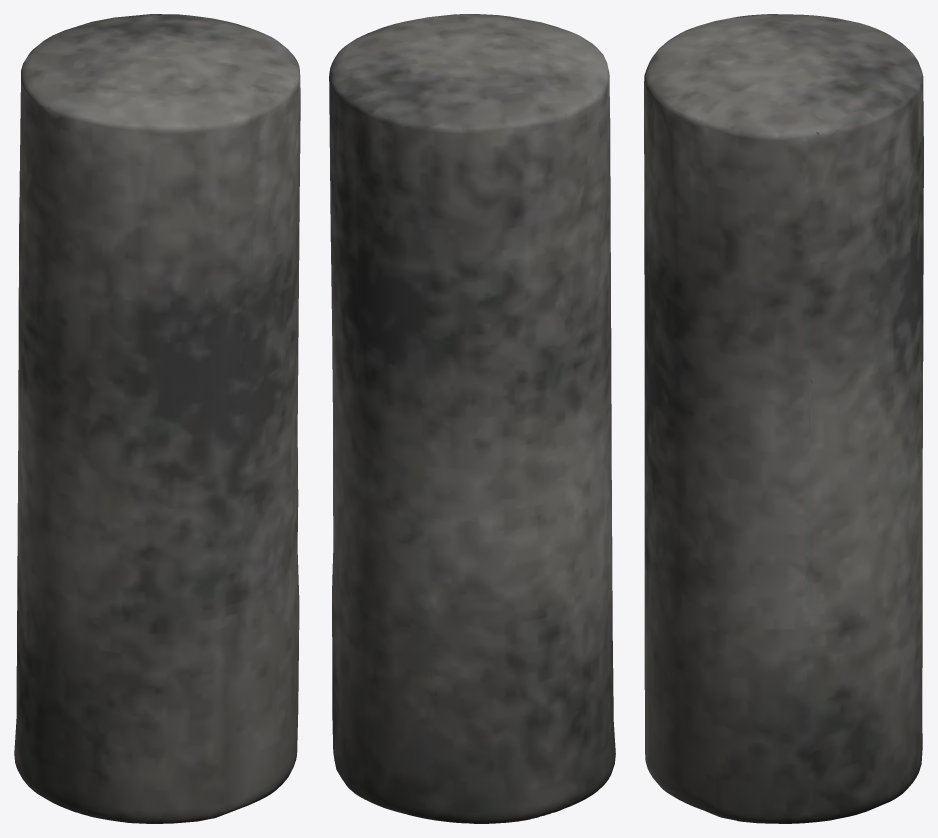
The model's file is sturdy-granite-bollard-v001.glb.
The picture shows the model from 3 angles, left to right: view 1: azimuth 30°, elevation 25°; view 2: azimuth 150°, elevation 25°; view 3: azimuth 270°, elevation 25°; orthographic projection.
Parts seen in each view (by area): view 1: sturdy-granite-bollard; view 2: sturdy-granite-bollard; view 3: sturdy-granite-bollard.
Part boxes in pixels (bbox=[...]): sturdy-granite-bollard: bbox=[14, 14, 300, 823]; sturdy-granite-bollard: bbox=[329, 14, 615, 823]; sturdy-granite-bollard: bbox=[644, 14, 923, 823].
Size of the model in its own units: 0.3149 by 0.8497 by 0.3038.
Materials: 1 (1 with a texture image).
